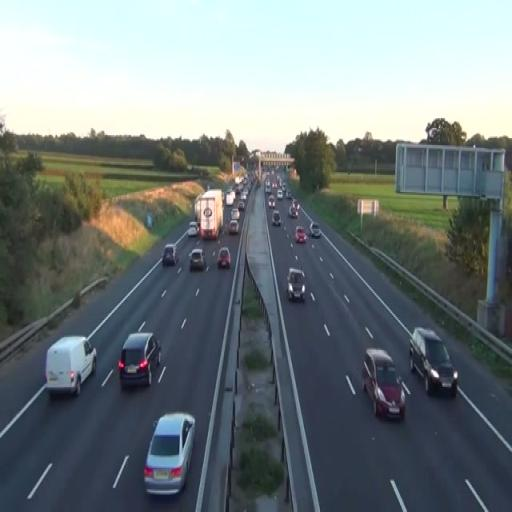Car: (143, 411, 196, 498), (409, 326, 458, 398), (44, 335, 98, 397), (362, 347, 406, 421), (118, 332, 162, 389), (287, 267, 307, 303), (188, 248, 206, 272), (162, 244, 179, 267), (217, 247, 231, 269), (294, 226, 308, 243), (272, 211, 282, 226)
Truck: (195, 190, 223, 240)
